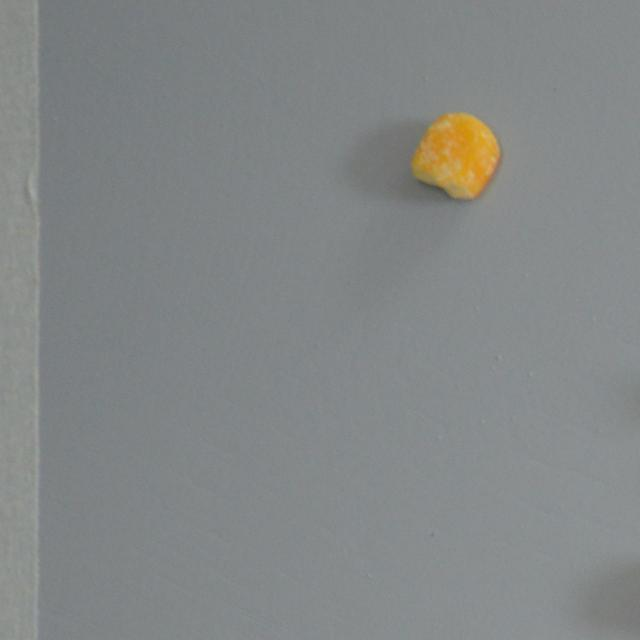pelicula: (408, 111, 502, 199)
